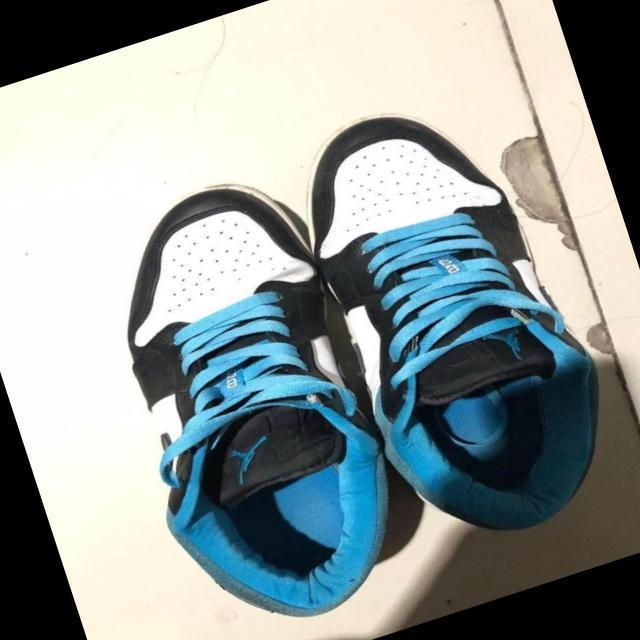nike fake jordan 1: (264, 72, 636, 570), (67, 158, 430, 640)
